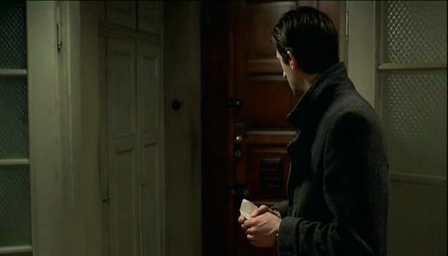face_es: (276, 48, 310, 101)
ms: (1, 1, 448, 256)
person: (237, 6, 389, 256)
